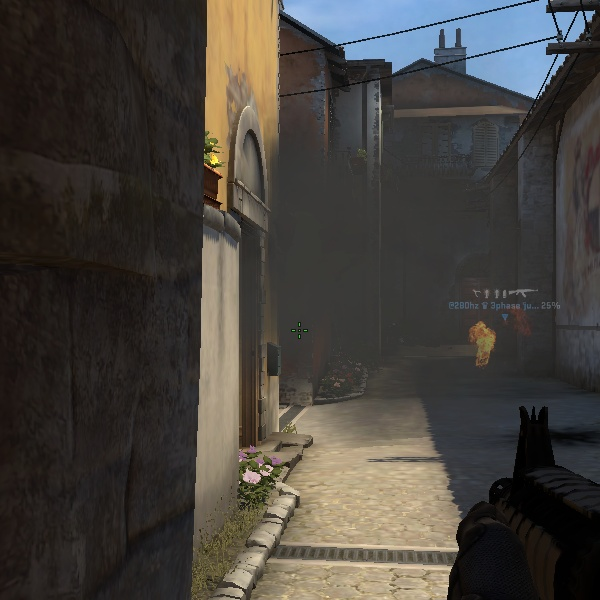t_body: (461, 316, 499, 365)
